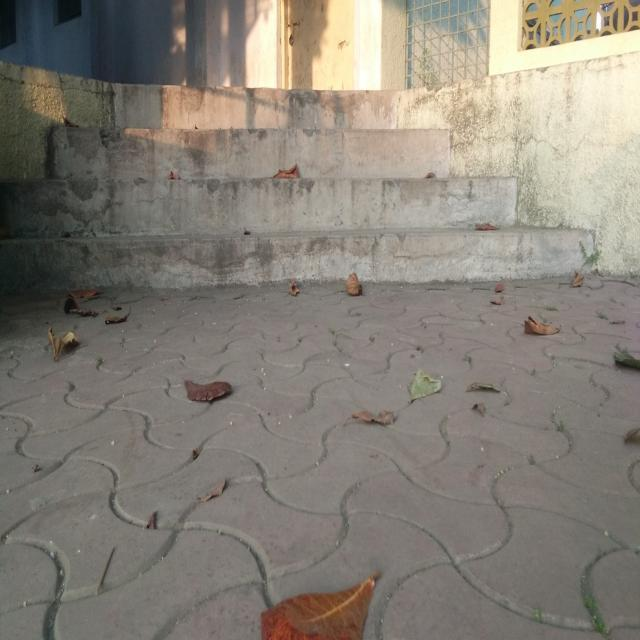stairs: (1, 118, 596, 292)
